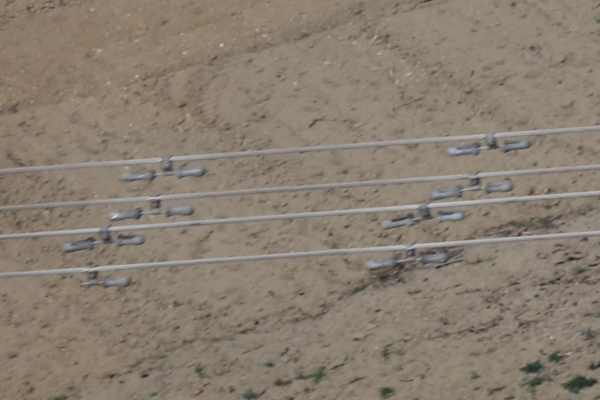damper: (106, 191, 197, 223), (363, 238, 450, 271), (430, 167, 516, 200), (60, 222, 146, 255), (379, 199, 466, 231), (443, 129, 534, 159), (119, 154, 211, 182)
damper_defect: (74, 261, 132, 290)
